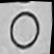correct: (3, 6, 46, 50)
